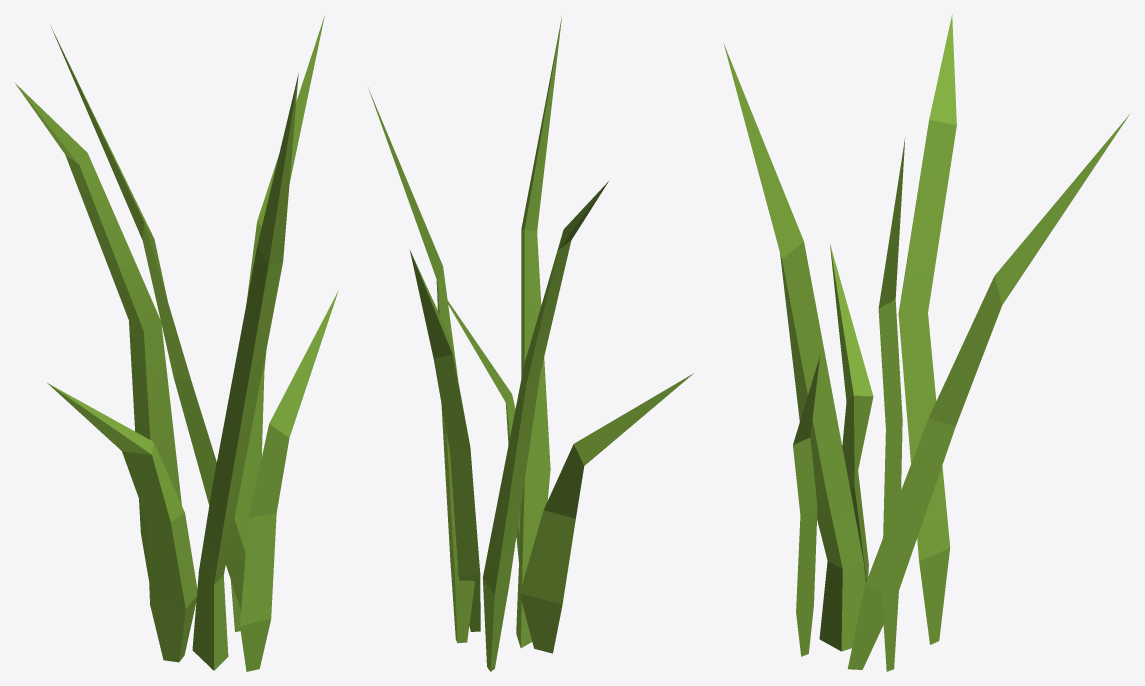
File: model_polytope_long_grass02.fbx
3 views of the same model, side by side, from view 1: azimuth 30°, elevation 25°; view 2: azimuth 150°, elevation 25°; view 3: azimuth 270°, elevation 25° (orthographic). The views are drawn at different scales.
Parts seen in each view (by area): view 1: model_polytope_long_grass02; view 2: model_polytope_long_grass02; view 3: model_polytope_long_grass02.
Boxes of the visible parts, left/top/right/bottom form: model_polytope_long_grass02: left=14, top=15, right=338, bottom=671; model_polytope_long_grass02: left=368, top=17, right=693, bottom=671; model_polytope_long_grass02: left=723, top=14, right=1129, bottom=671.
Size of the model in its own units: 31.11 by 58.65 by 35.25.
